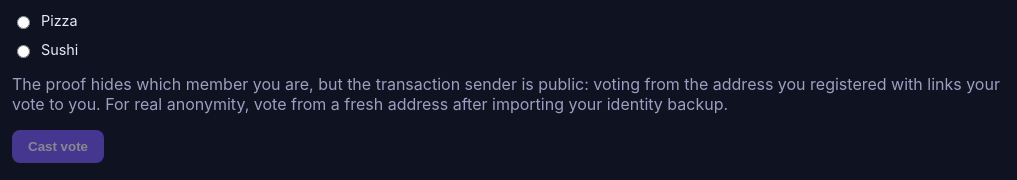
VotePanel › cast vote is disabled until an option is chosen
Check: the button "Cast vote" is disabled, box [12,130,104,163]
What coordinates should you click on to do the following:
click the radio button labelled "Sushi"
I would click on:
 (24, 51)
Its box is [17,44,30,58].
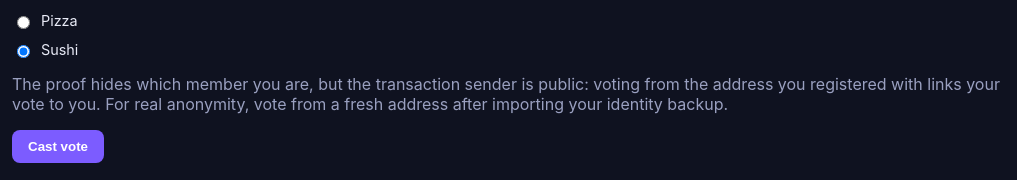
Check: the button "Cast vote" is enabled, box [12,130,104,163]
